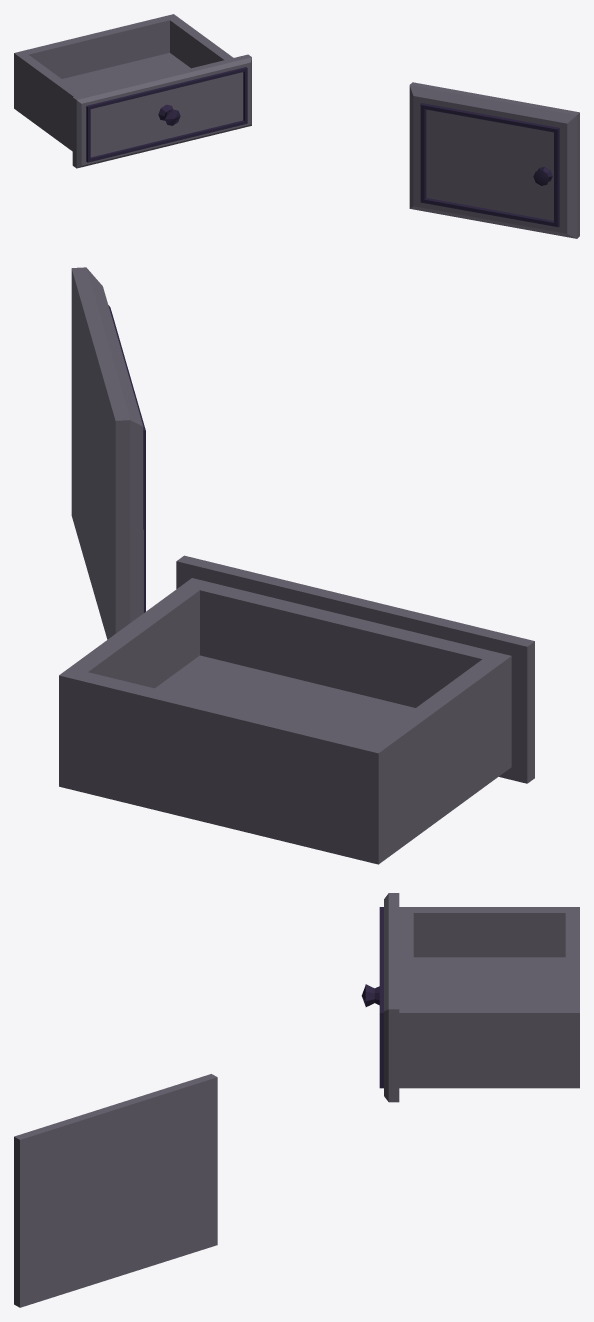
Rendered from containers.fbx.
The picture shows the model from 3 angles, top to bottom: view 1: azimuth 30°, elevation 25°; view 2: azimuth 150°, elevation 25°; view 3: azimuth 270°, elevation 25°; orthographic projection. The views are drawn at different scales.
Visible parts, largest first — view 1: drawer_counter, cupboard1; view 2: drawer_counter, cupboard1; view 3: drawer_counter, cupboard1.
Part boxes in pixels (x1,y1,x2,y2): drawer_counter: (14, 14, 251, 168); cupboard1: (409, 82, 579, 238); drawer_counter: (59, 555, 534, 864); cupboard1: (71, 267, 145, 639); drawer_counter: (361, 893, 579, 1102); cupboard1: (14, 1074, 217, 1307).
Size of the model in its own units: 239 by 78.42 by 235.
